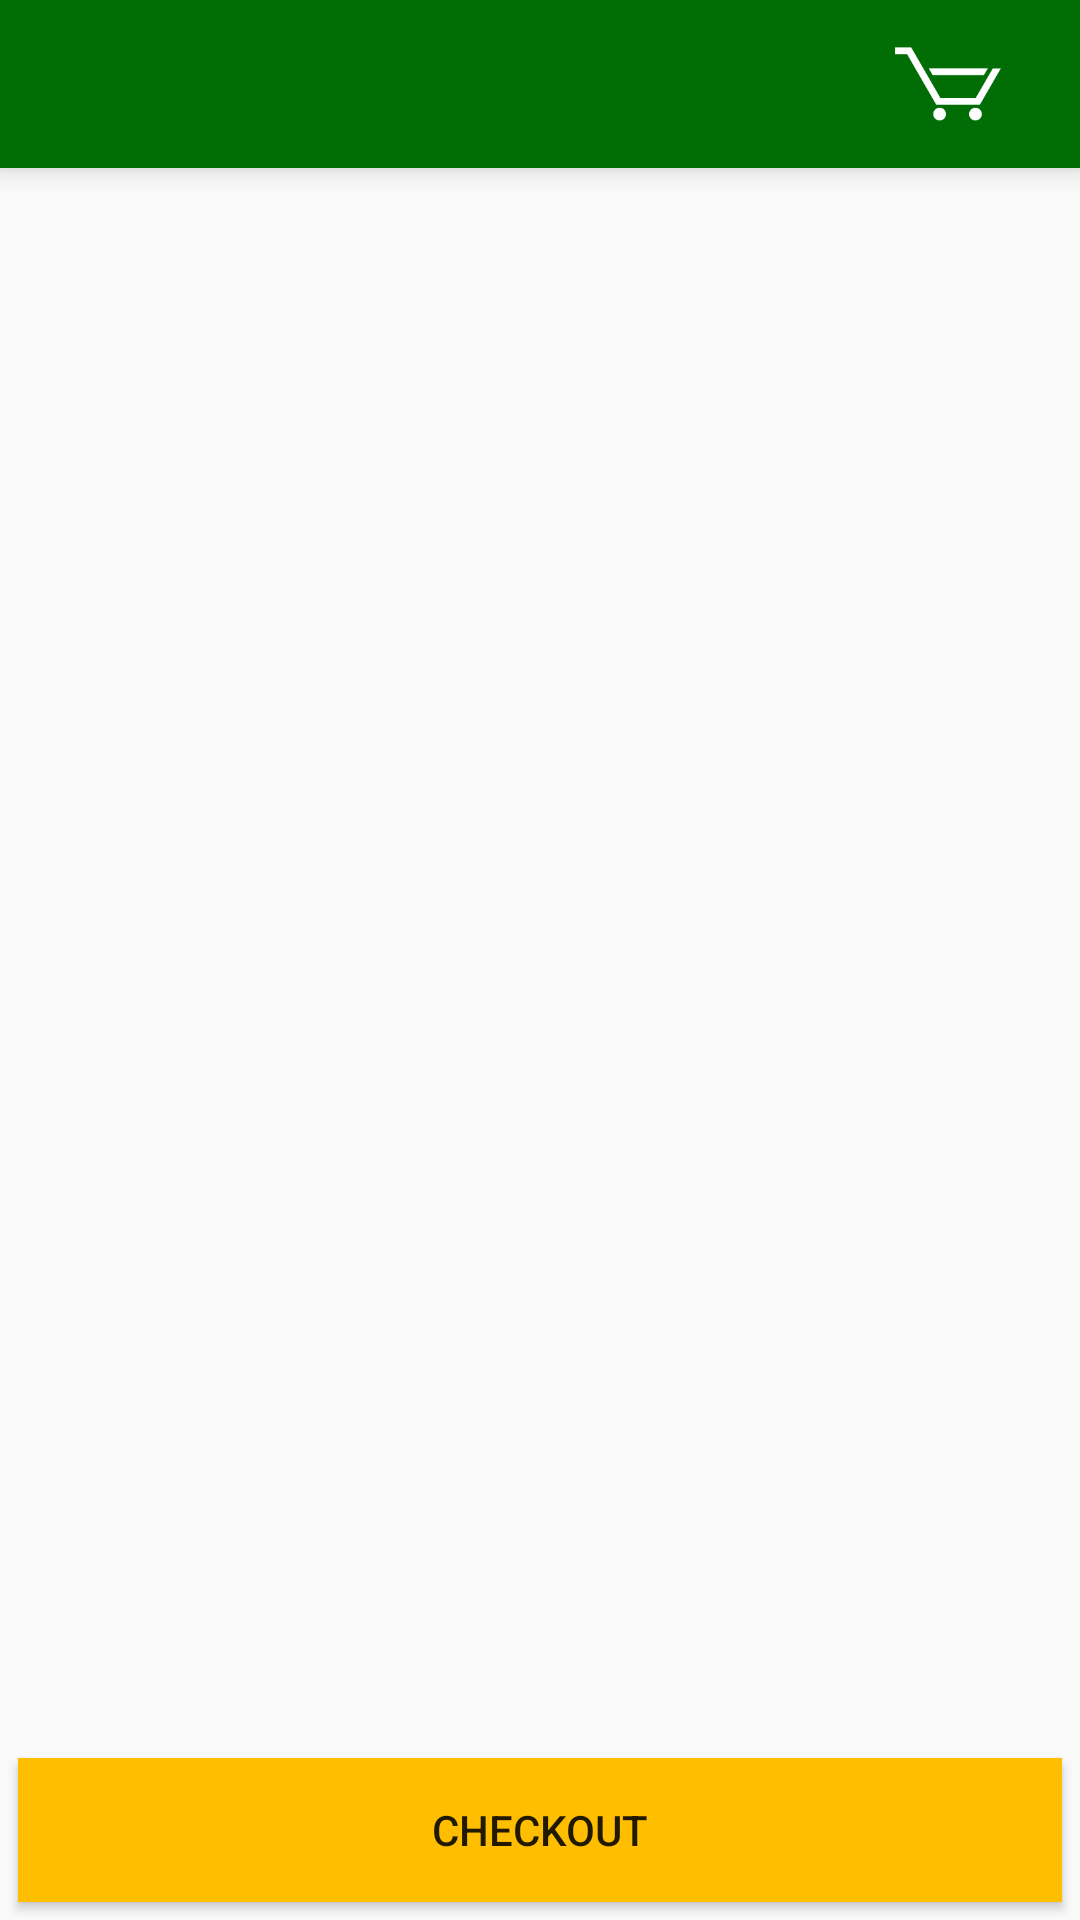

Icon bounding boxes for this 1080w x 1920h phone screenshot, format bbox=[x1, y1, x2, y2]:
Show cart: bbox=[895, 47, 1001, 121]
